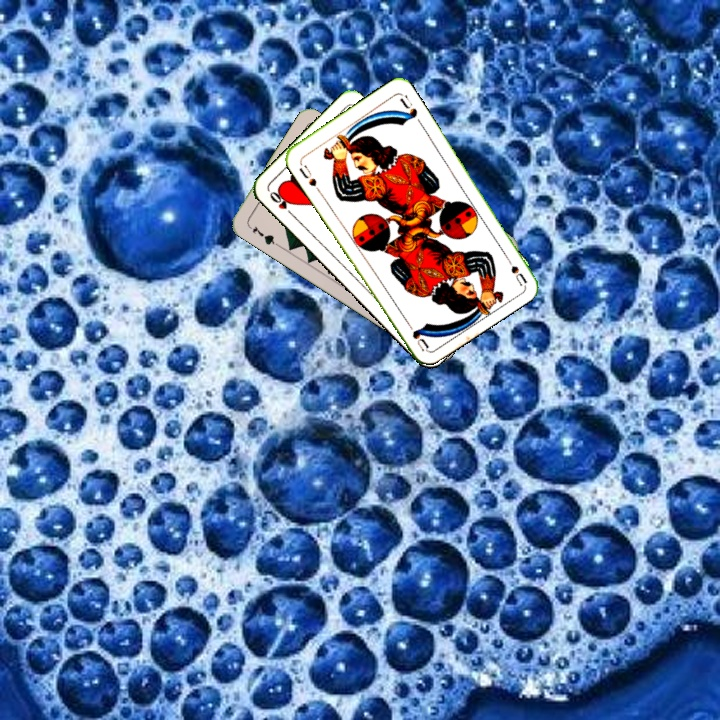G7: (244, 221, 280, 248)
HO: (266, 187, 297, 220)
SU: (500, 249, 529, 287), (295, 161, 319, 189)
